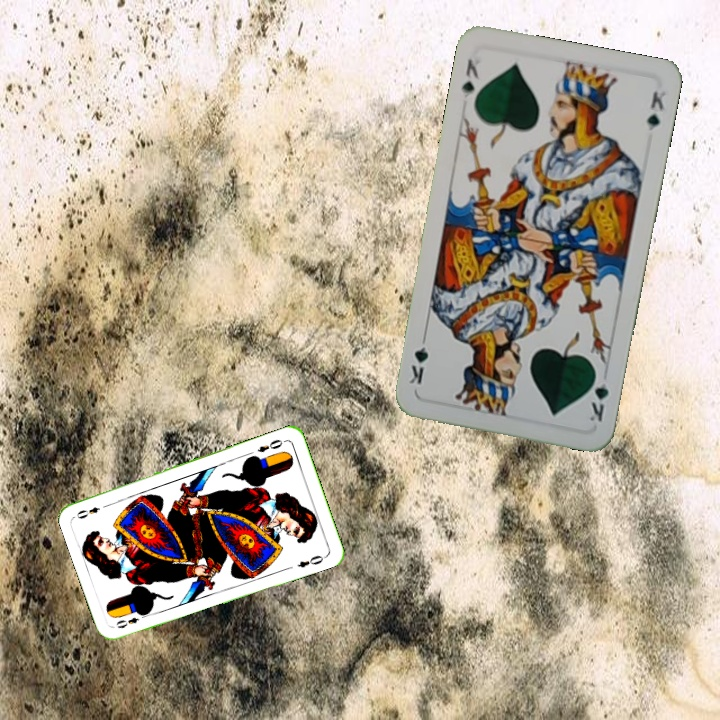EO: (112, 609, 150, 631), (253, 435, 289, 455)
GK: (585, 367, 612, 424), (458, 55, 482, 101)
